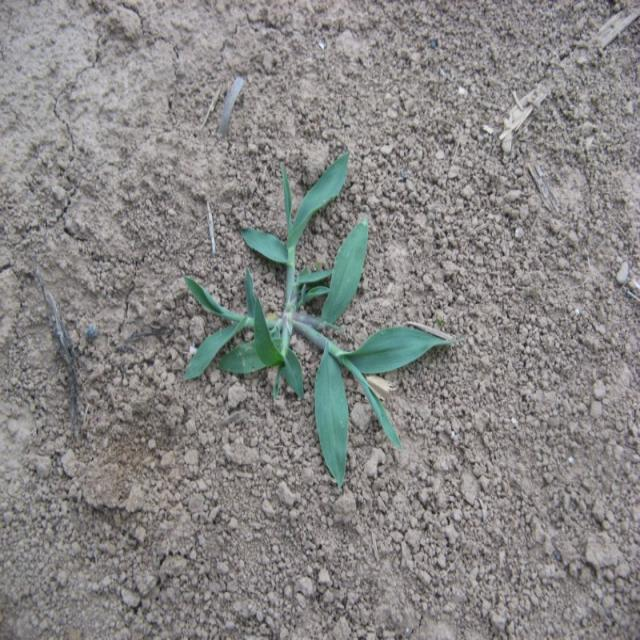bg: (185, 151, 447, 476)
